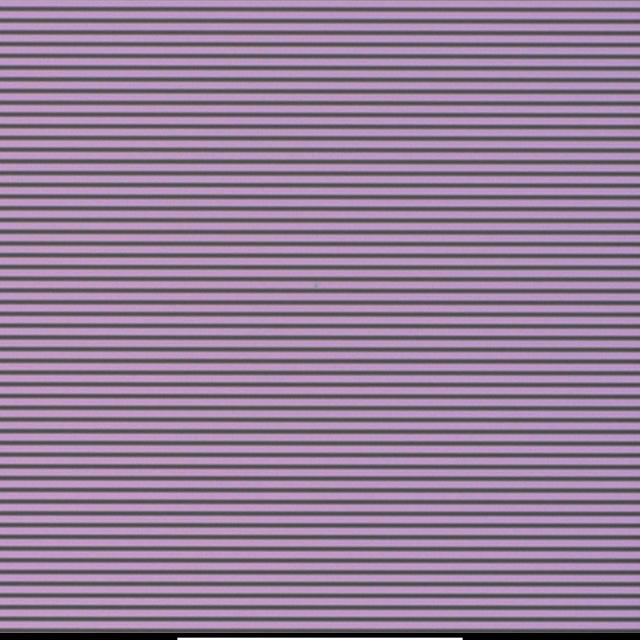nonvisual: (313, 279, 320, 291)
